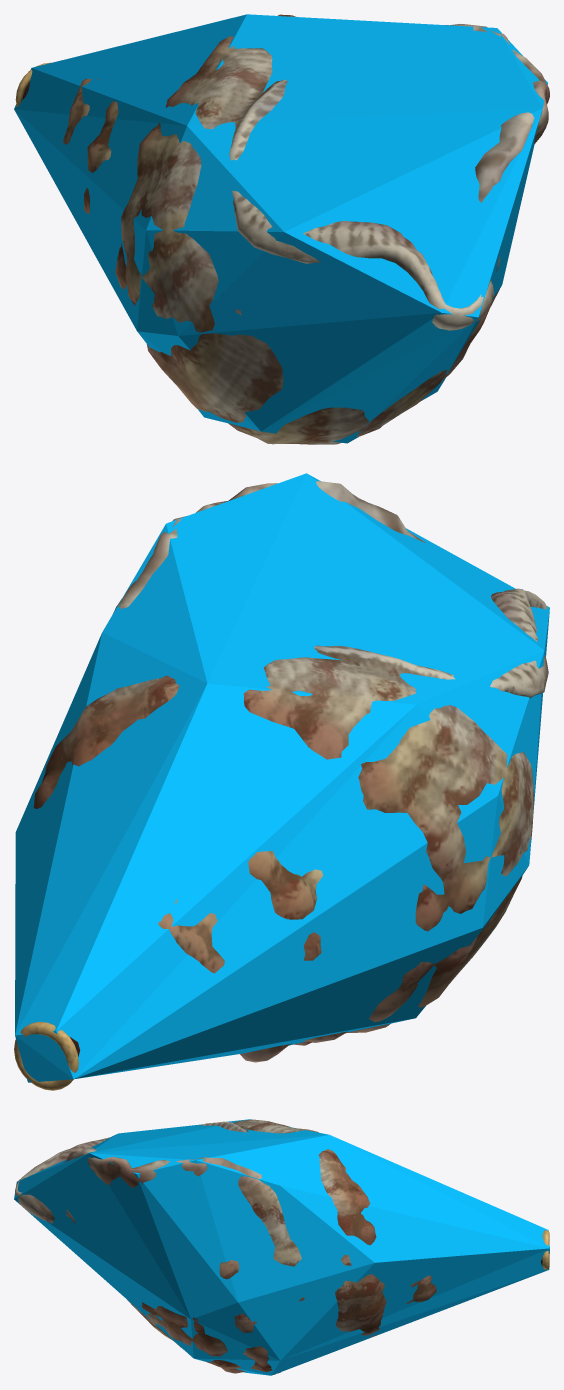
Rendered from JWC_Horagai_A_01.fbx.
The picture shows the model from 3 angles, top to bottom: view 1: azimuth 30°, elevation 25°; view 2: azimuth 150°, elevation 25°; view 3: azimuth 270°, elevation 25°; orthographic projection. The views are drawn at different scales.
Visible parts, largest first — view 1: C_JWC_Horagai_A_01, JWC_Horagai_A_01; view 2: C_JWC_Horagai_A_01, JWC_Horagai_A_01; view 3: C_JWC_Horagai_A_01, JWC_Horagai_A_01.
Boxes of the visible parts, x1=… form: C_JWC_Horagai_A_01: x1=14, y1=14, x2=547, y2=443; JWC_Horagai_A_01: x1=15, y1=14, x2=549, y2=444; C_JWC_Horagai_A_01: x1=15, y1=473, x2=549, y2=1082; JWC_Horagai_A_01: x1=14, y1=481, x2=548, y2=1090; C_JWC_Horagai_A_01: x1=14, y1=1119, x2=549, y2=1375; JWC_Horagai_A_01: x1=15, y1=1119, x2=549, y2=1374.
Bounding box in the file's own units: 0.1729 × 0.1919 × 0.367.
